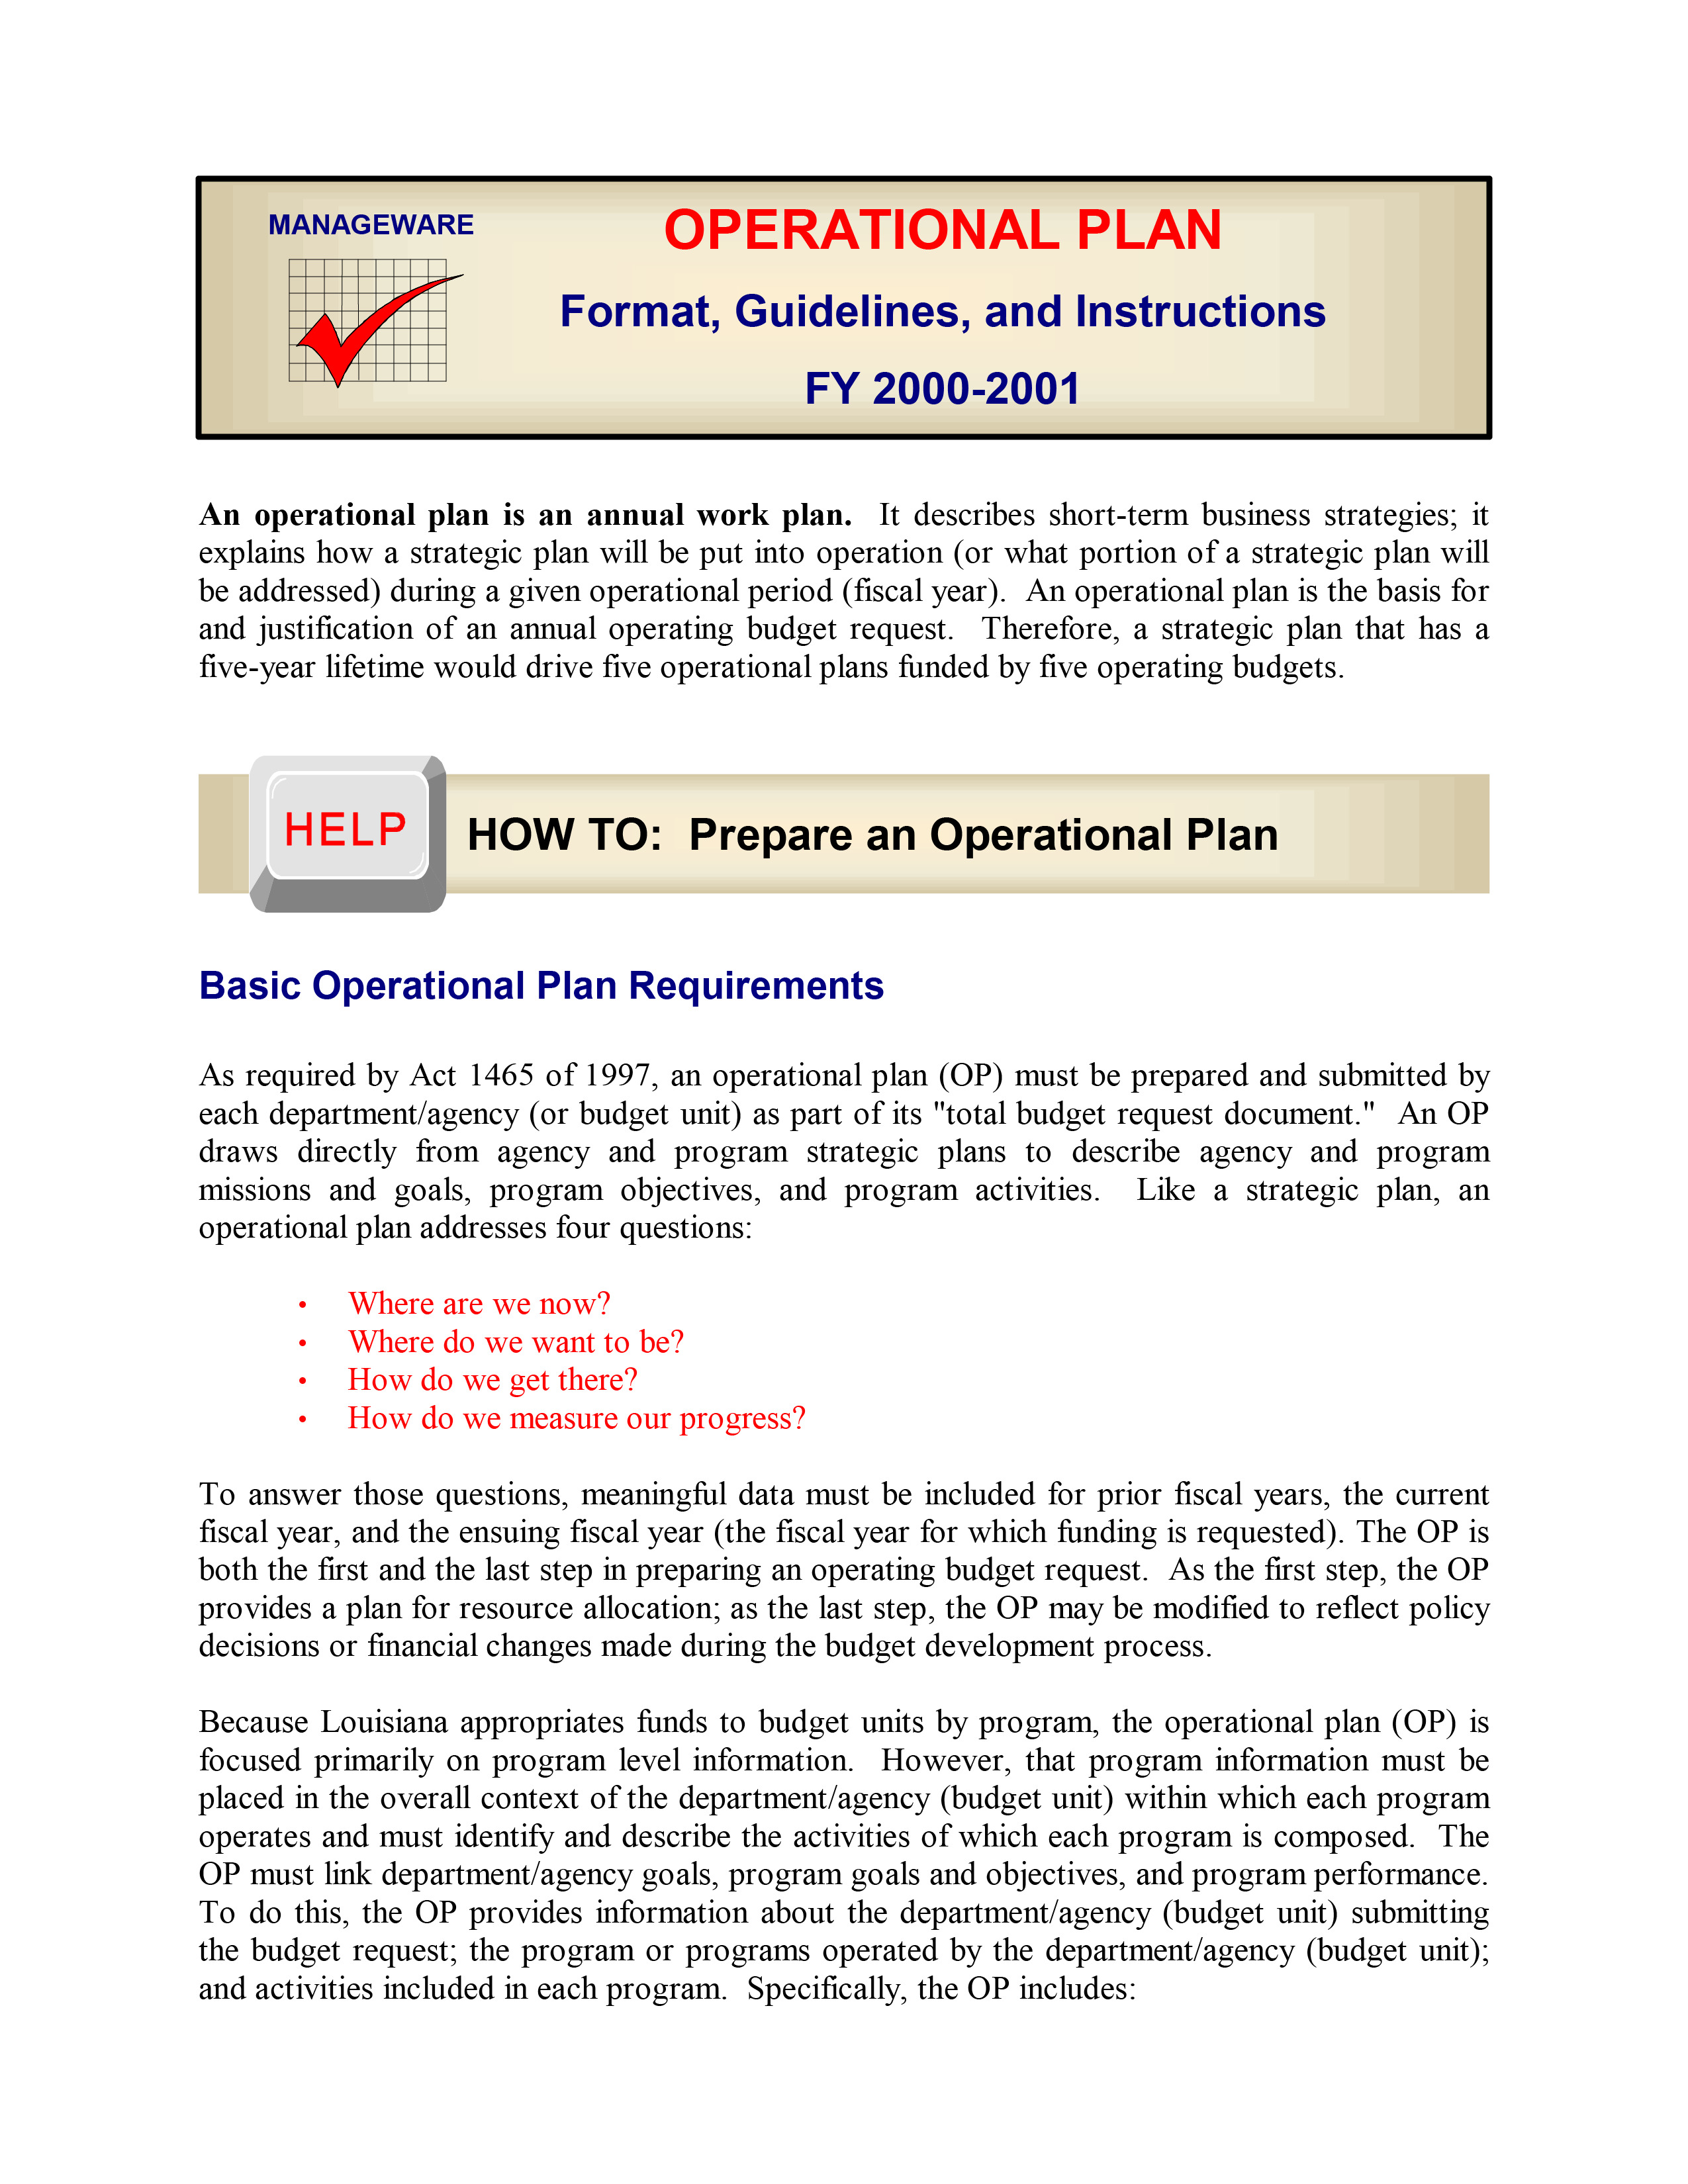figure: (241, 760, 426, 904), (289, 269, 468, 379)
section: (555, 289, 1332, 417), (463, 812, 1280, 863), (202, 963, 883, 1014), (663, 202, 1225, 257), (202, 500, 856, 532), (266, 206, 479, 243)
text: (199, 1709, 1486, 2014), (202, 1468, 1495, 1672), (190, 496, 1498, 690), (197, 1062, 1491, 1244), (296, 1285, 809, 1447)
